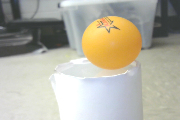PingPongBall: (82, 17, 142, 69)
